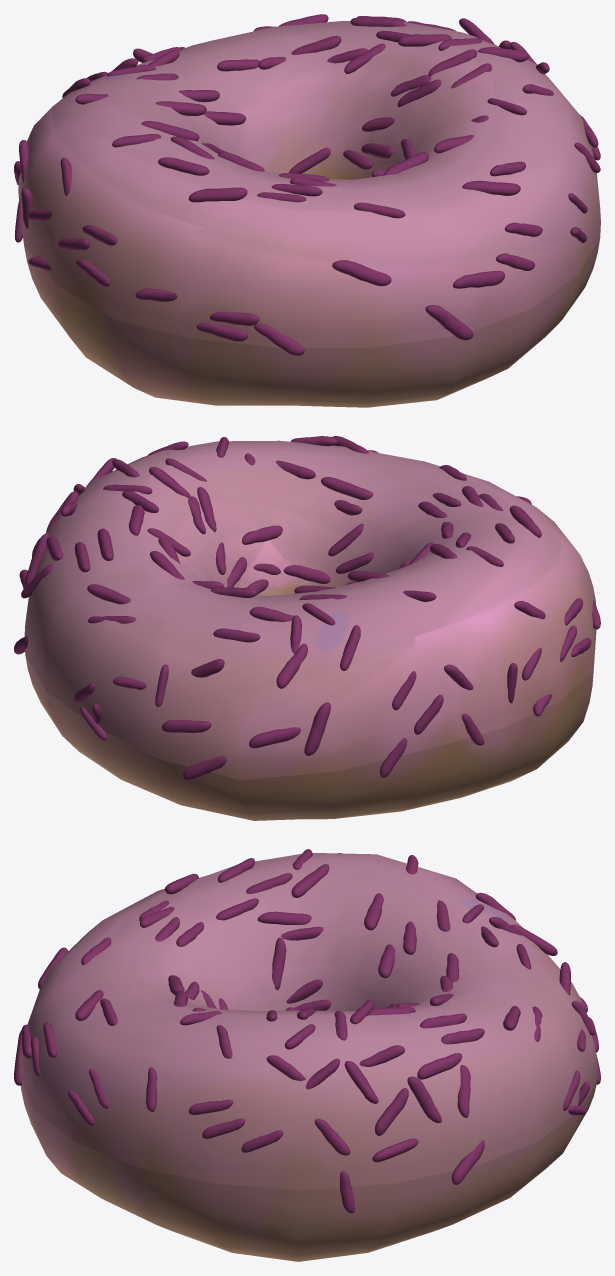
The model's file is NUTTTSSSSSD.fbx.
3 views of the same model, one above another, from view 1: azimuth 30°, elevation 25°; view 2: azimuth 150°, elevation 25°; view 3: azimuth 270°, elevation 25° (orthographic).
Visible parts, largest first — view 1: Torus.001; view 2: Torus.001; view 3: Torus.001.
Boxes of the visible parts, <box> form: Torus.001: <box>14,14,600,407</box>; Torus.001: <box>14,436,600,820</box>; Torus.001: <box>14,849,600,1261</box>.
Size of the model in its own units: 0.1258 by 0.0563 by 0.1269.
2 materials, 1 textured.
